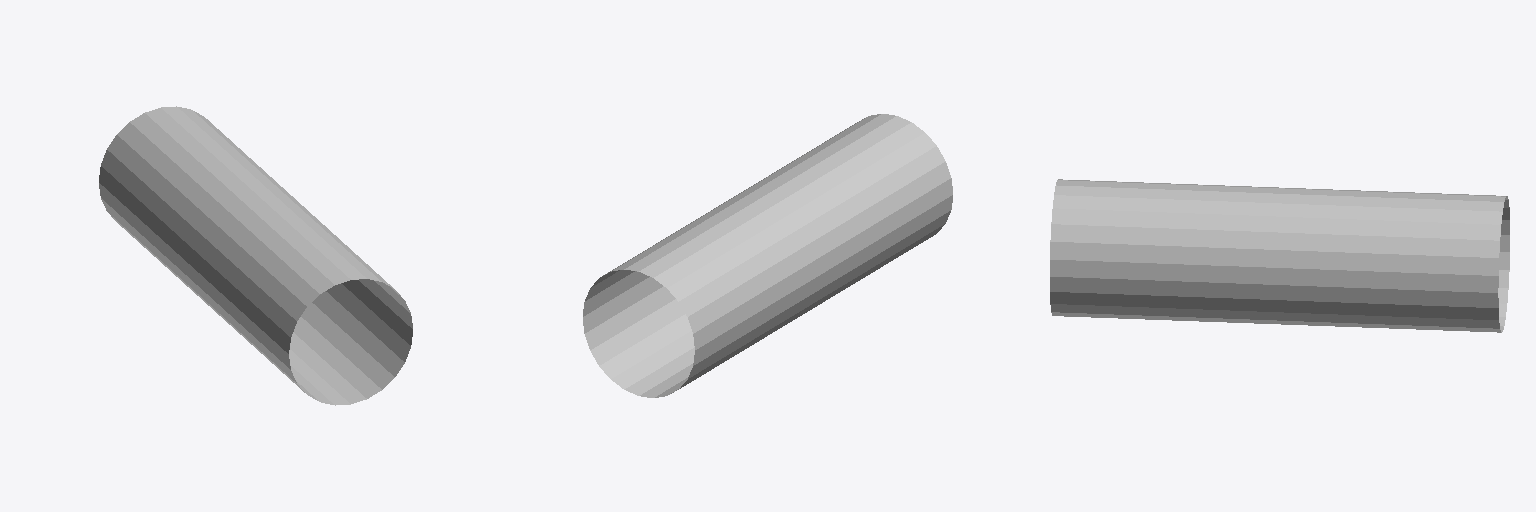
File: torso_l1_3.obj
3 renders of one model, left to right at view 1: azimuth 30°, elevation 25°; view 2: azimuth 150°, elevation 25°; view 3: azimuth 270°, elevation 25°, orthographic.
Size of the model in its own units: 0.0032 by 0.0025 by 0.0084.